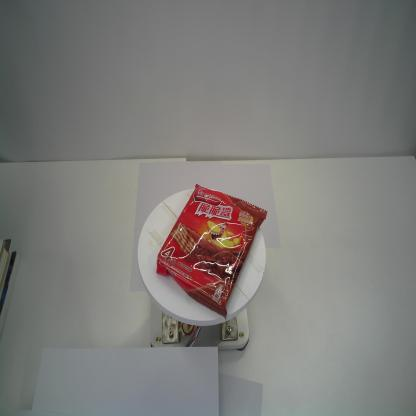Dessert: (156, 183, 268, 322)
